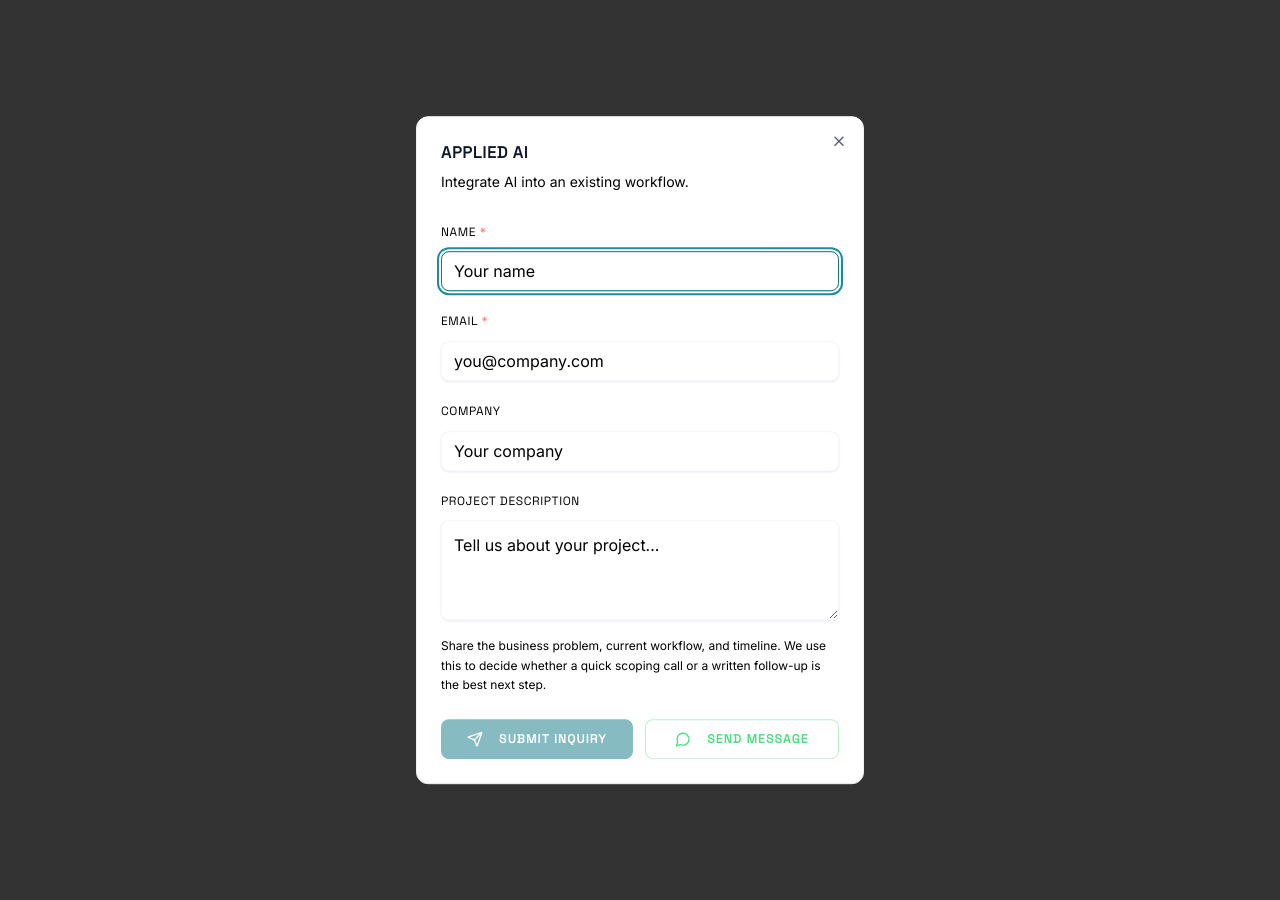
Test: ServiceModal › submits successfully when Formspree is configured
Type "Frank" into the field labelled "Name *" at (640, 272), box [441, 252, 839, 292]
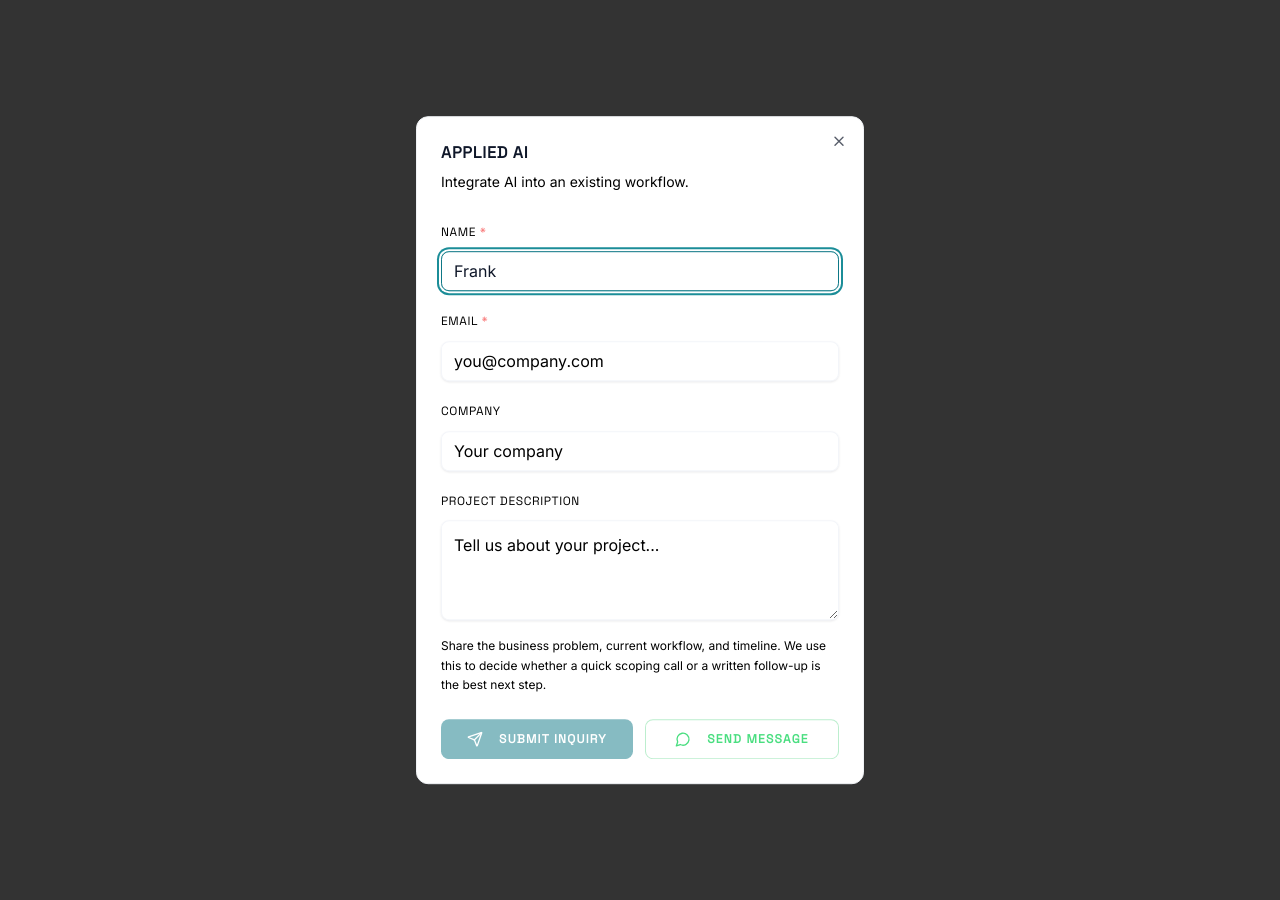
Type "frank@example.com" into the field labelled "Email *" at (640, 361), box [441, 341, 839, 381]
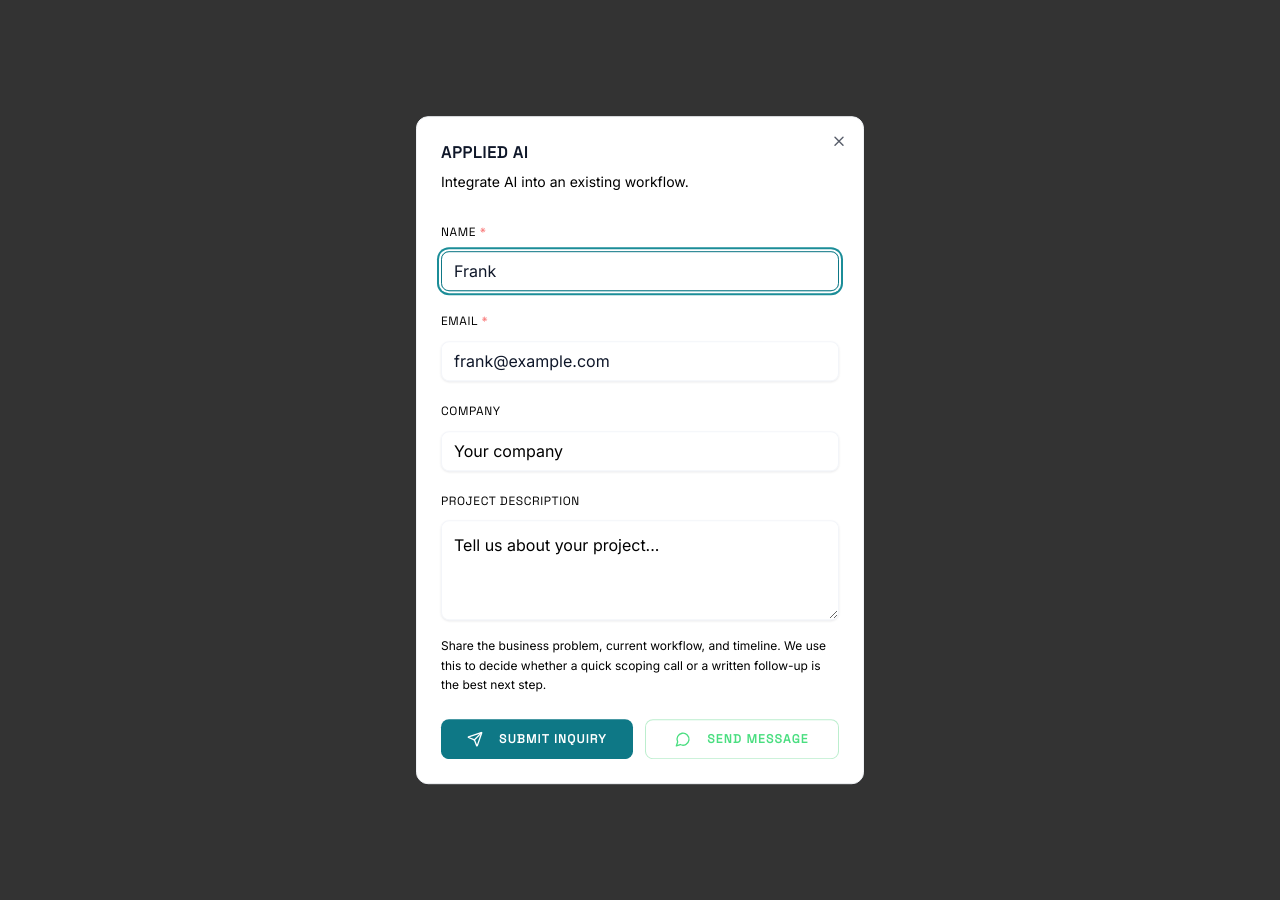
Click the button "Submit Inquiry" at (537, 739), box [441, 719, 633, 759]
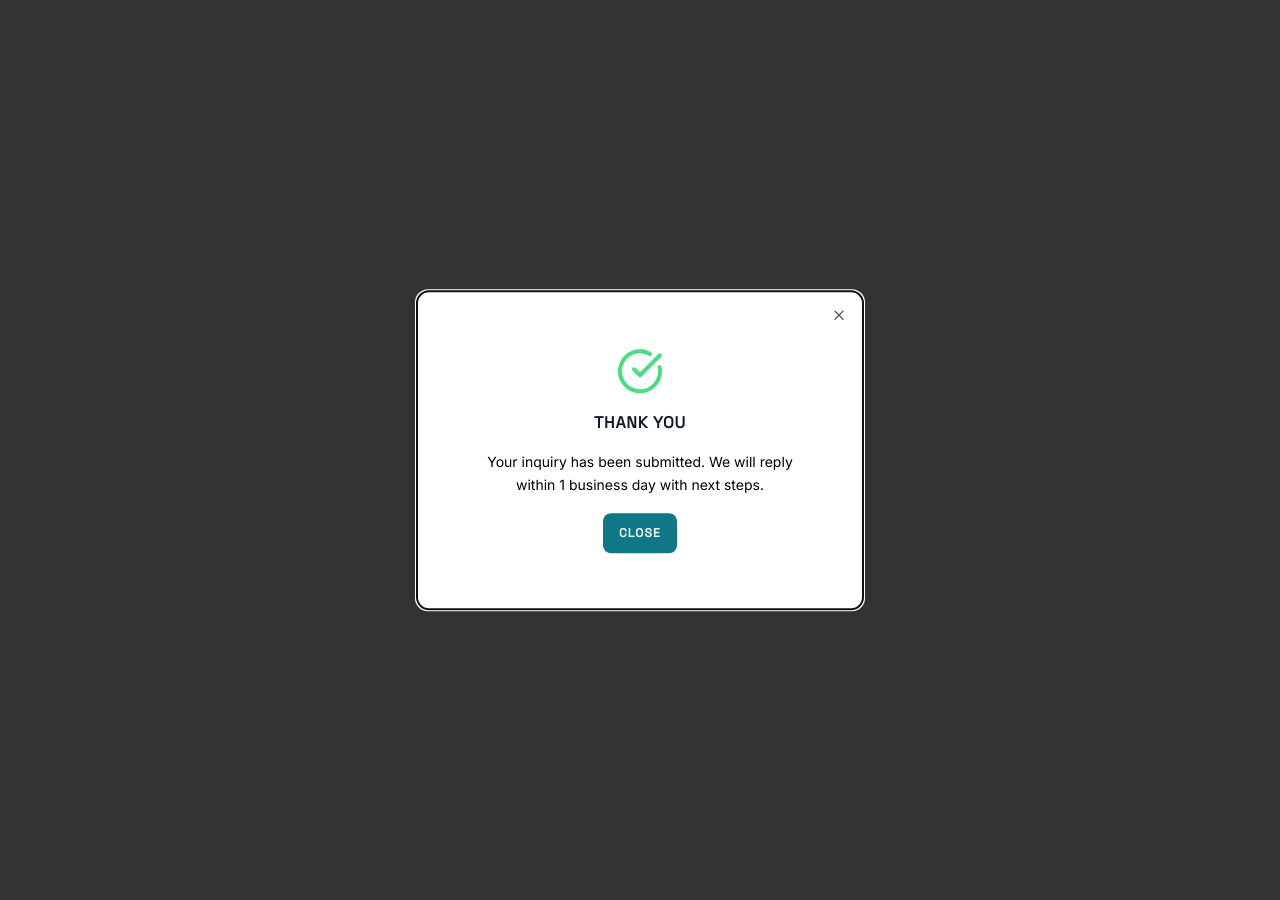
Check: the text "Your inquiry has been submitted" is shown, box [487, 453, 793, 493]
